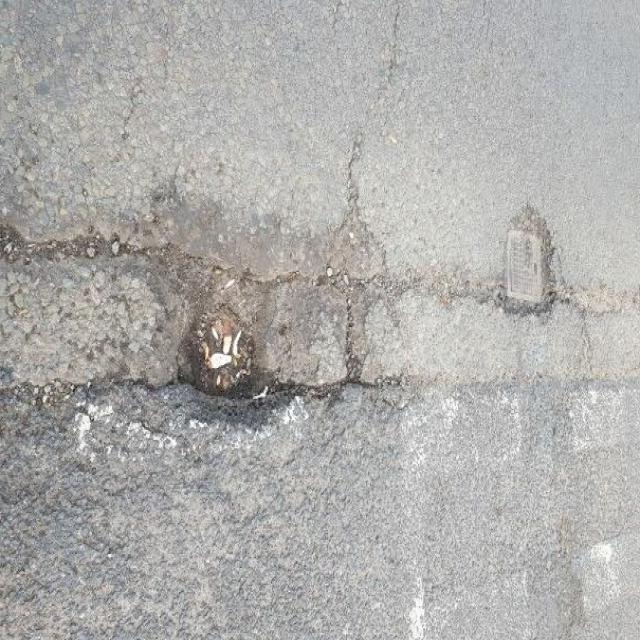pothole: (106, 232, 381, 432)
